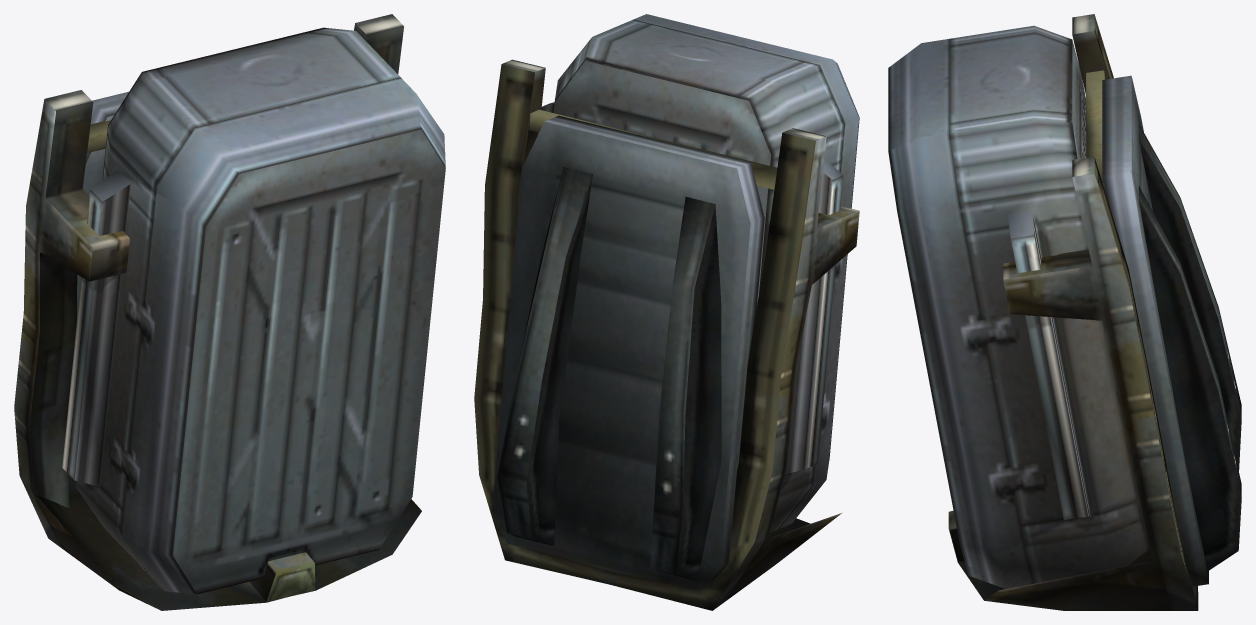
File: bagpack2.glb
The picture shows the model from 3 angles, left to right: view 1: azimuth 30°, elevation 25°; view 2: azimuth 150°, elevation 25°; view 3: azimuth 270°, elevation 25°; orthographic projection. The views are drawn at different scales.
Parts seen in each view (by area): view 1: Box03; view 2: Box03; view 3: Box03.
Boxes of the visible parts, x1,y1,x2,y2 form: Box03: [14, 14, 445, 610]; Box03: [474, 14, 859, 610]; Box03: [888, 14, 1241, 610].
Size of the model in its own units: 27.95 by 40.3 by 26.17.
1 material, 1 textured.
